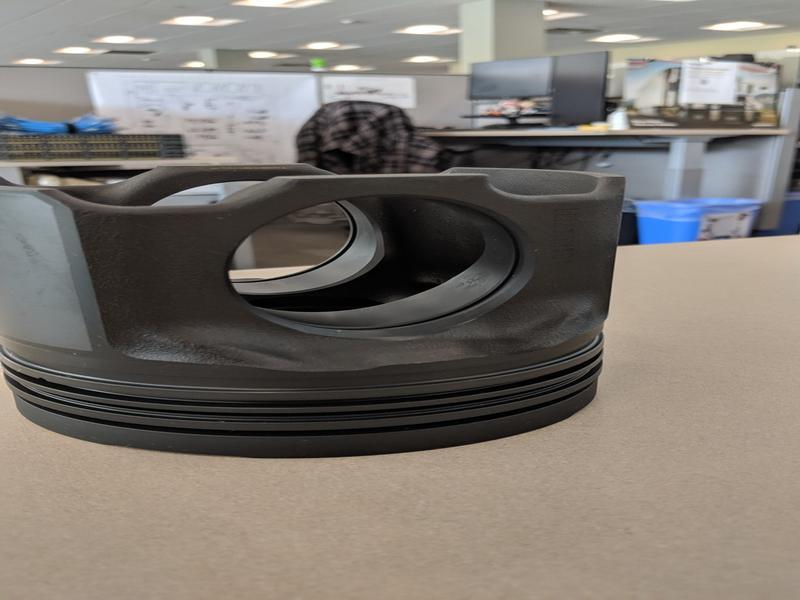piston: (4, 160, 630, 463)
